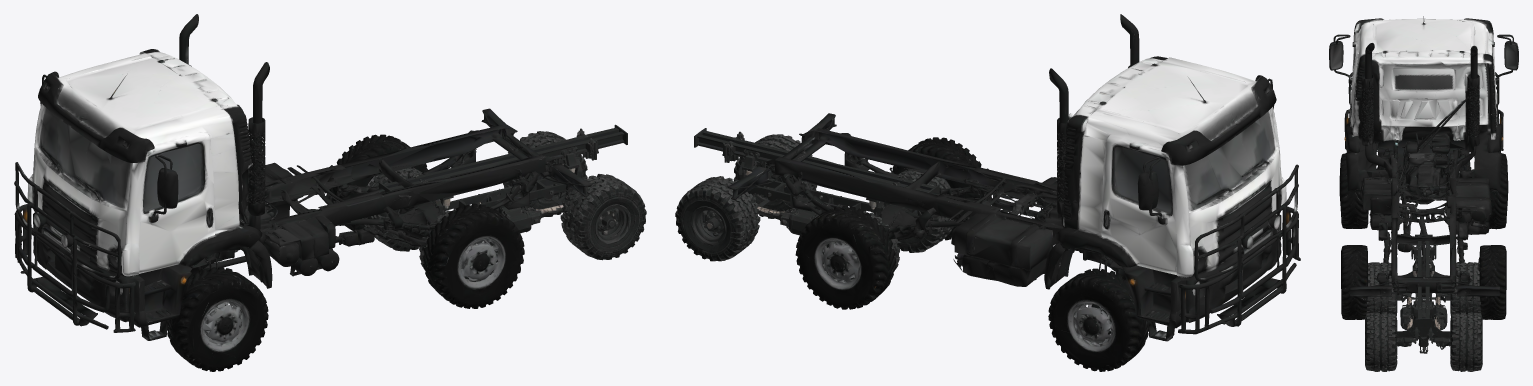
File: caminhao-desktop-CVK0GVjg.glb
The picture shows the model from 3 angles, left to right: view 1: azimuth 30°, elevation 25°; view 2: azimuth 150°, elevation 25°; view 3: azimuth 270°, elevation 25°; orthographic projection. The views are drawn at different scales.
Visible parts, largest first — view 1: TRUCK_4X2, AUXILIARY_AXLE; view 2: TRUCK_4X2, AUXILIARY_AXLE; view 3: TRUCK_4X2, AUXILIARY_AXLE.
Part boxes in pixels (box(x1,y1,x2,y2)): TRUCK_4X2: box(14, 14, 592, 371); AUXILIARY_AXLE: box(362, 124, 646, 266); TRUCK_4X2: box(727, 14, 1300, 371); AUXILIARY_AXLE: box(675, 128, 955, 268); TRUCK_4X2: box(1329, 16, 1518, 319); AUXILIARY_AXLE: box(1365, 234, 1482, 371).
Bounding box in the file's own units: 9.54 × 4.47 × 3.76.
2 materials, 2 textured.
